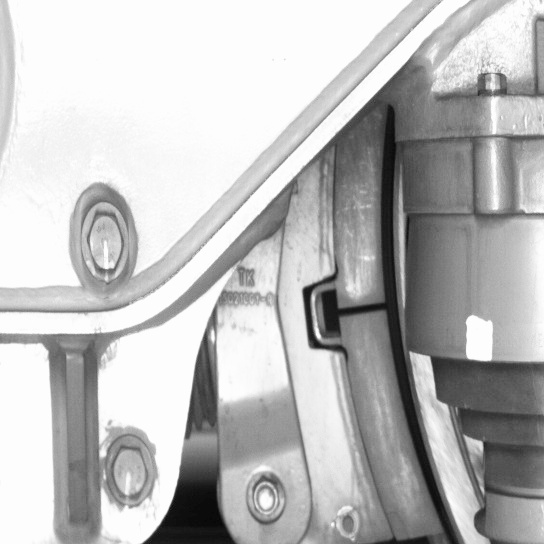KnifeSwitch: (331, 136, 467, 541)
